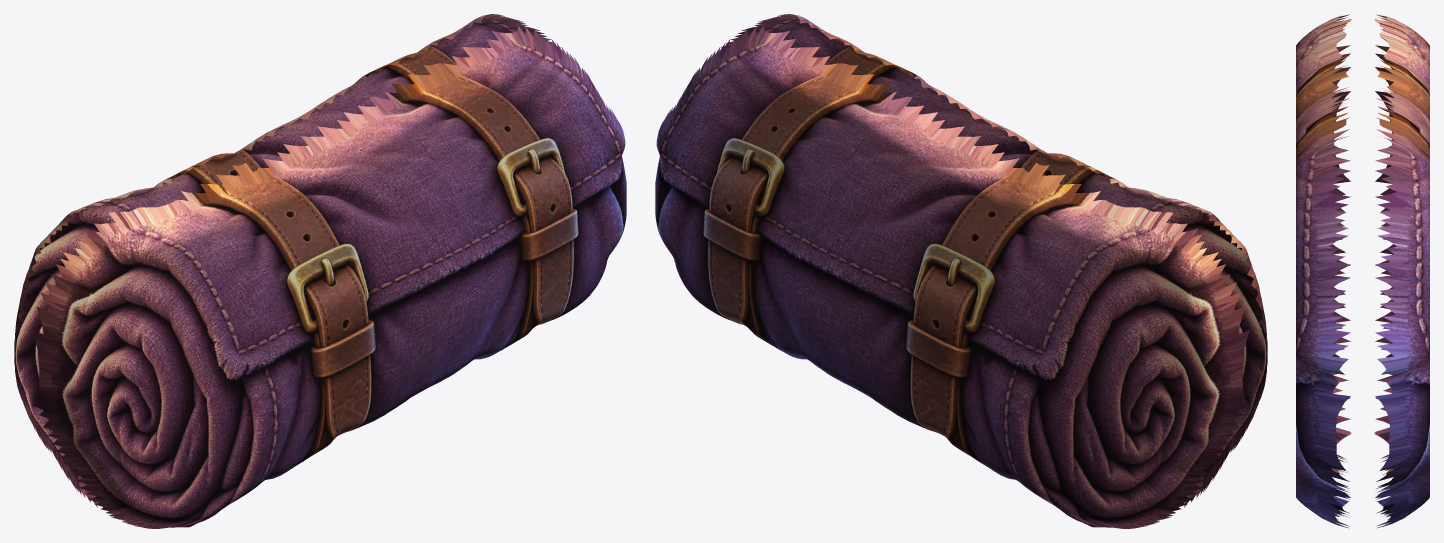
Rendered from v4-item-bedroll.glb.
3 views of the same model, side by side, from view 1: azimuth 30°, elevation 25°; view 2: azimuth 150°, elevation 25°; view 3: azimuth 270°, elevation 25° (orthographic). The views are drawn at different scales.
Visible parts, largest first — view 1: v4-item-bedroll; view 2: v4-item-bedroll; view 3: v4-item-bedroll.
Boxes of the visible parts, x1,y1,x2,y2 form: v4-item-bedroll: (14, 14, 626, 528); v4-item-bedroll: (655, 14, 1267, 528); v4-item-bedroll: (1296, 14, 1429, 528).
Size of the model in its own units: 1.45 by 0.9789 by 0.24.
1 material, 1 textured.
